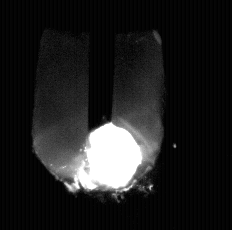arame: (89, 0, 113, 137)
poca: (31, 0, 163, 230)
